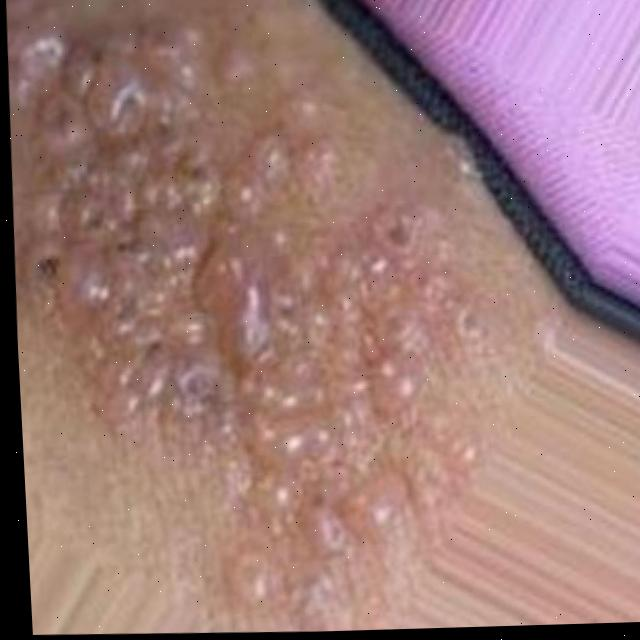Shingles: (1, 12, 464, 546)
